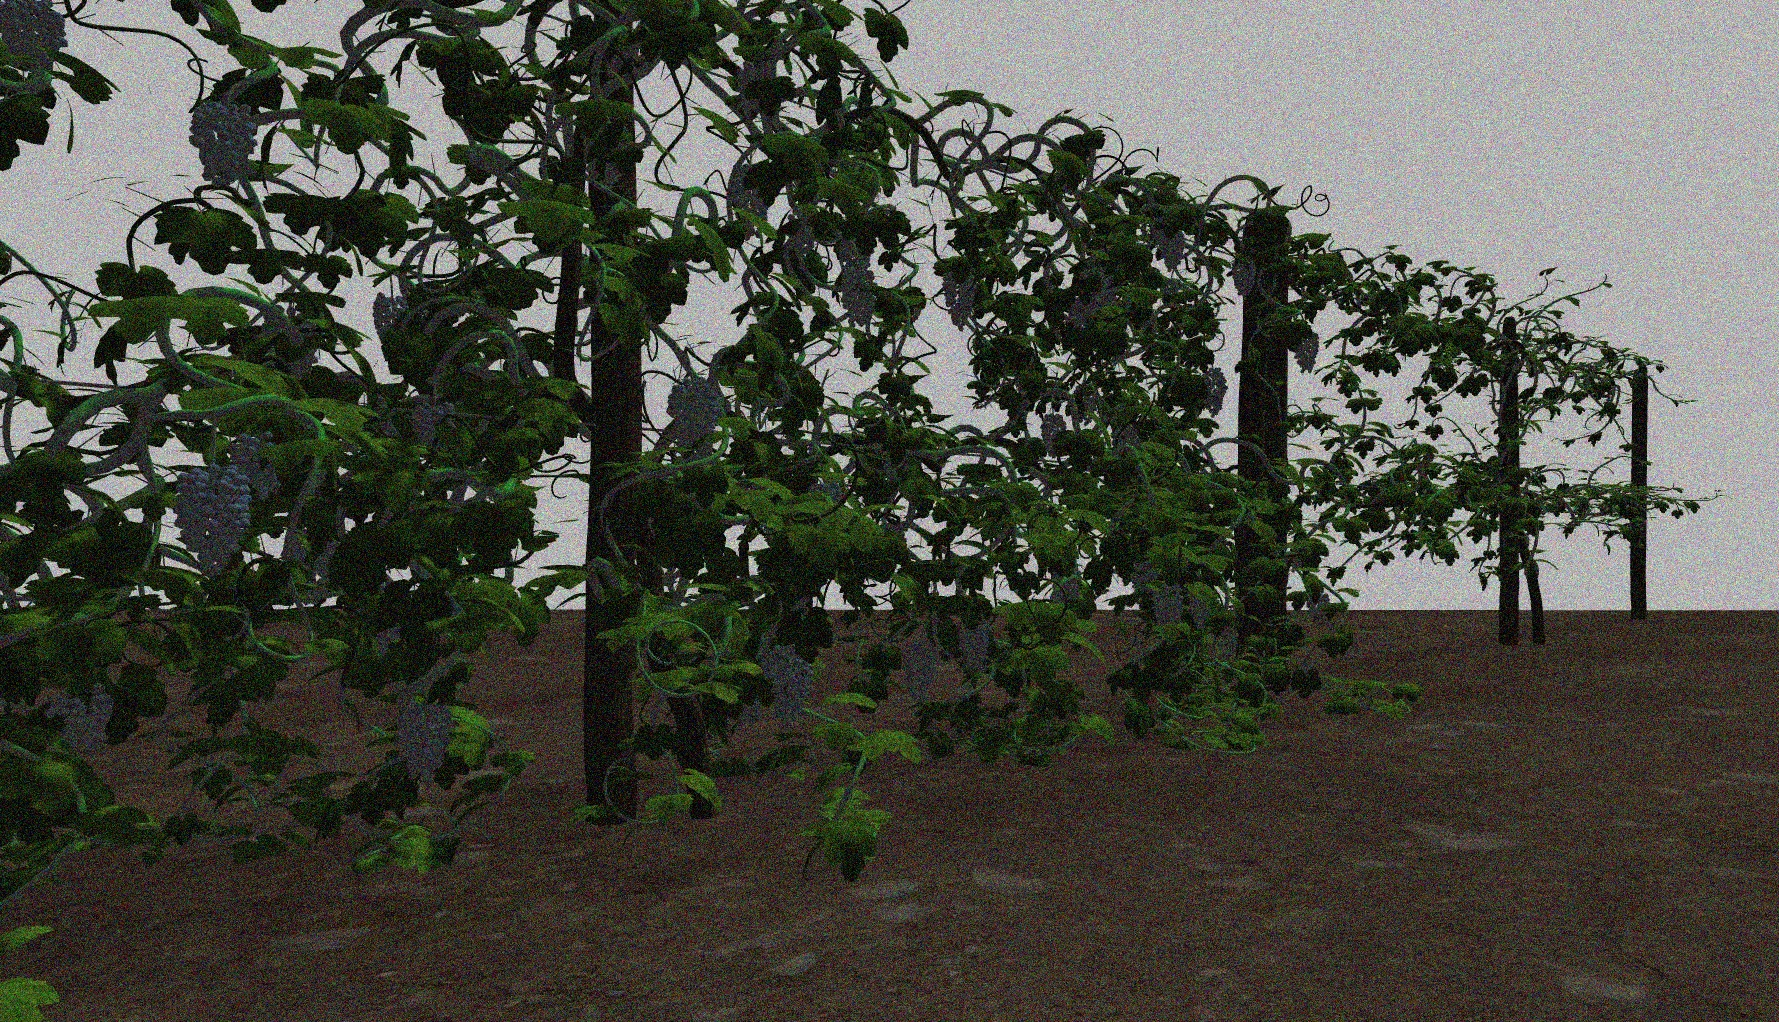grape: (171, 469, 257, 579), (393, 689, 459, 782), (186, 100, 258, 185), (43, 682, 119, 755), (762, 643, 816, 726), (665, 381, 720, 456), (5, 7, 68, 67), (232, 433, 283, 499), (728, 163, 769, 238), (903, 639, 941, 708), (940, 267, 979, 333), (842, 265, 877, 325), (408, 400, 453, 446), (957, 616, 992, 674), (1153, 219, 1186, 271), (371, 293, 411, 334), (1151, 583, 1185, 626), (1202, 366, 1228, 418), (1293, 328, 1320, 373), (1230, 257, 1257, 300), (1186, 589, 1215, 630), (1041, 414, 1065, 458), (1215, 622, 1239, 661), (1306, 594, 1331, 622)
